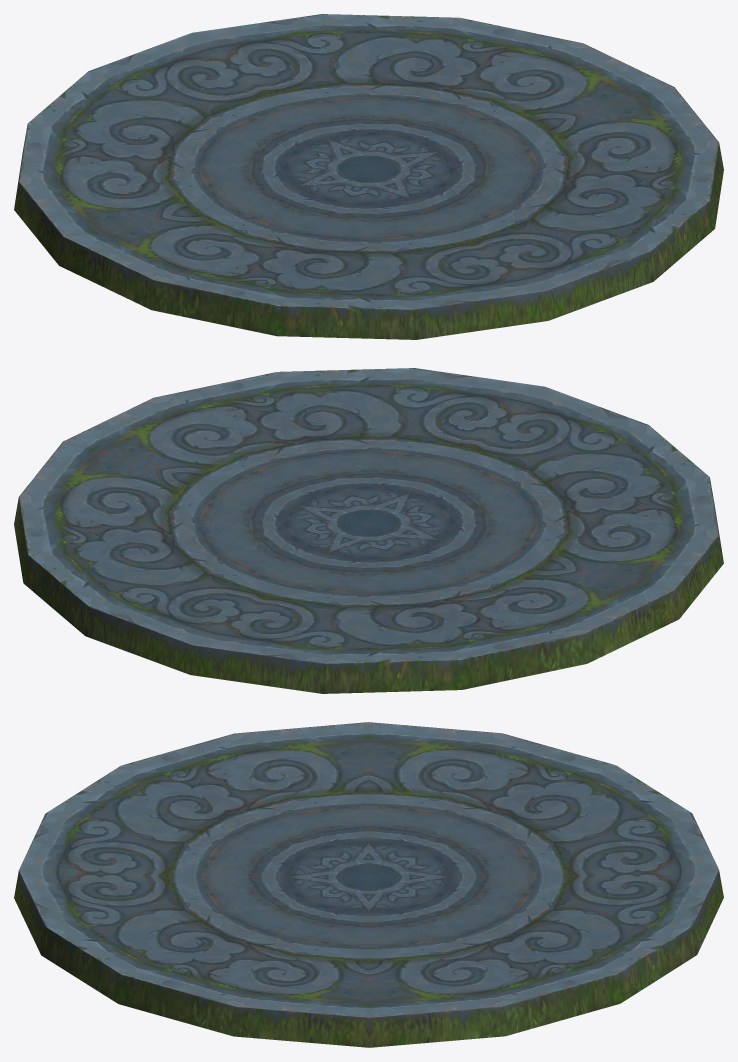
File: fb_tys_zj_02_b.FBX
3 renders of one model, top to bottom at view 1: azimuth 30°, elevation 25°; view 2: azimuth 150°, elevation 25°; view 3: azimuth 270°, elevation 25°, orthographic.
Visible parts, largest first — view 1: fb_tys_zj_02_b; view 2: fb_tys_zj_02_b; view 3: fb_tys_zj_02_b.
Boxes of the visible parts, left/top/right/bottom form: fb_tys_zj_02_b: left=14, top=14, right=723, bottom=339; fb_tys_zj_02_b: left=14, top=368, right=723, bottom=693; fb_tys_zj_02_b: left=14, top=722, right=723, bottom=1047.
Bounding box in the file's own units: 720 × 31.03 × 720.
